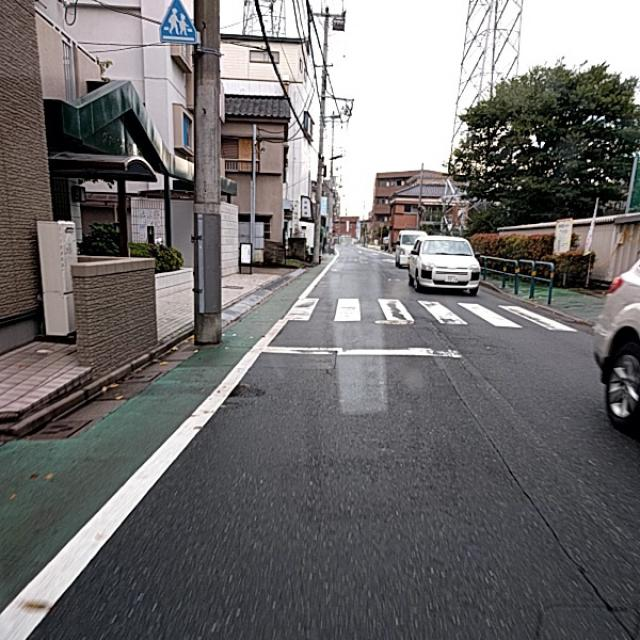pothole: (191, 368, 293, 402)
